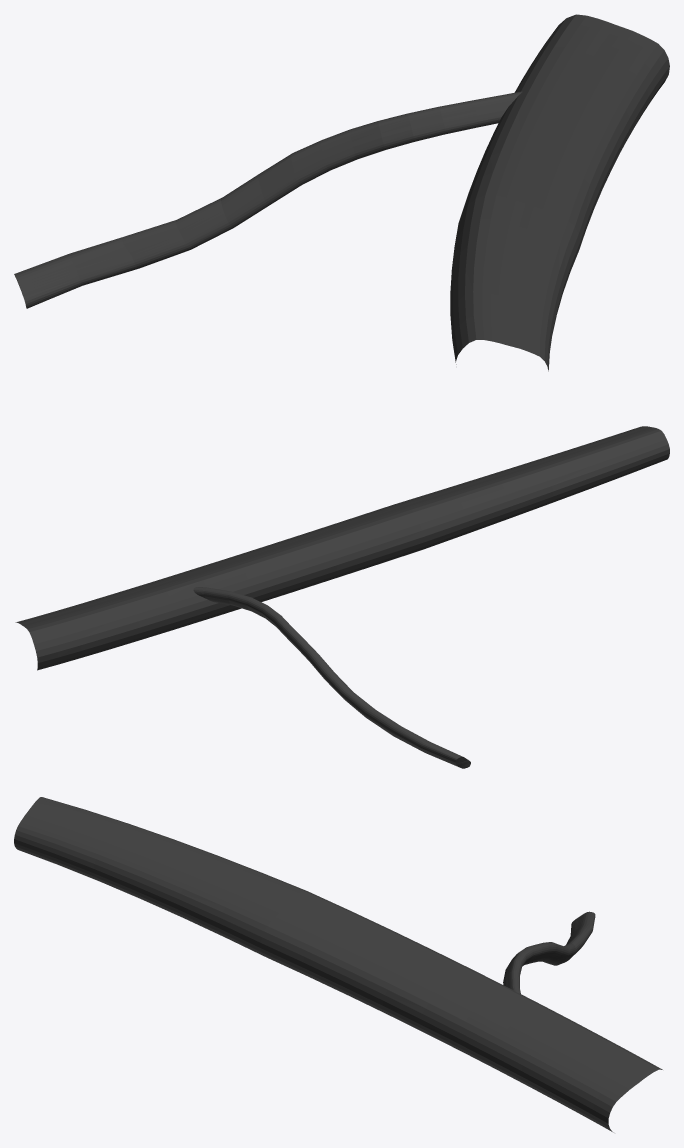
Rendered from N_5_trigeminus_ophthalmic_nasociliary.glb.
3 views of the same model, one above another, from view 1: azimuth 30°, elevation 25°; view 2: azimuth 150°, elevation 25°; view 3: azimuth 270°, elevation 25° (orthographic). The views are drawn at different scales.
Parts seen in each view (by area): view 1: N_5_trigeminus_ophthalmic_nasociliary; view 2: N_5_trigeminus_ophthalmic_nasociliary; view 3: N_5_trigeminus_ophthalmic_nasociliary.
Boxes of the visible parts, x1,y1,x2,y2 form: N_5_trigeminus_ophthalmic_nasociliary: (14, 14, 669, 371); N_5_trigeminus_ophthalmic_nasociliary: (15, 426, 669, 768); N_5_trigeminus_ophthalmic_nasociliary: (14, 797, 662, 1132).
Bounding box in the file's own units: 0.00469 × 0.00149 × 0.00555.
Materials: 1 (1 with a texture image).
